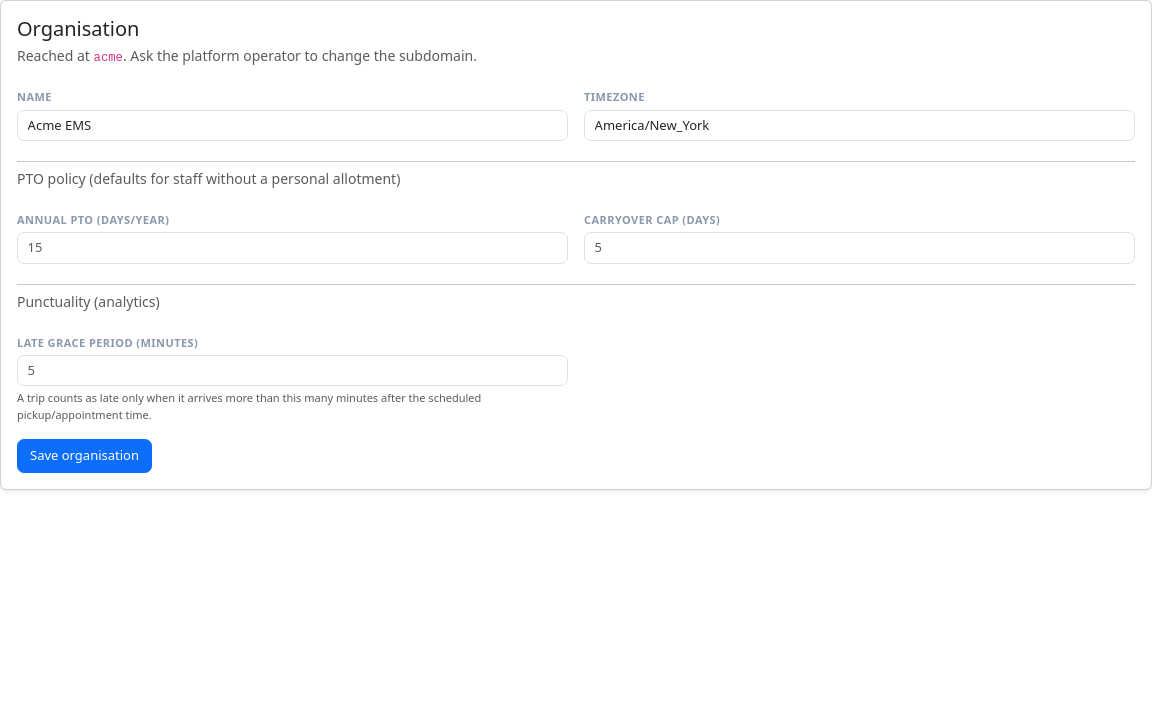
Test: OrgSettings › saves name and timezone
Replace the text in the field labelled "Name" with "Acme Medical". click: (292, 125)
box: 17,110 -> 568,141
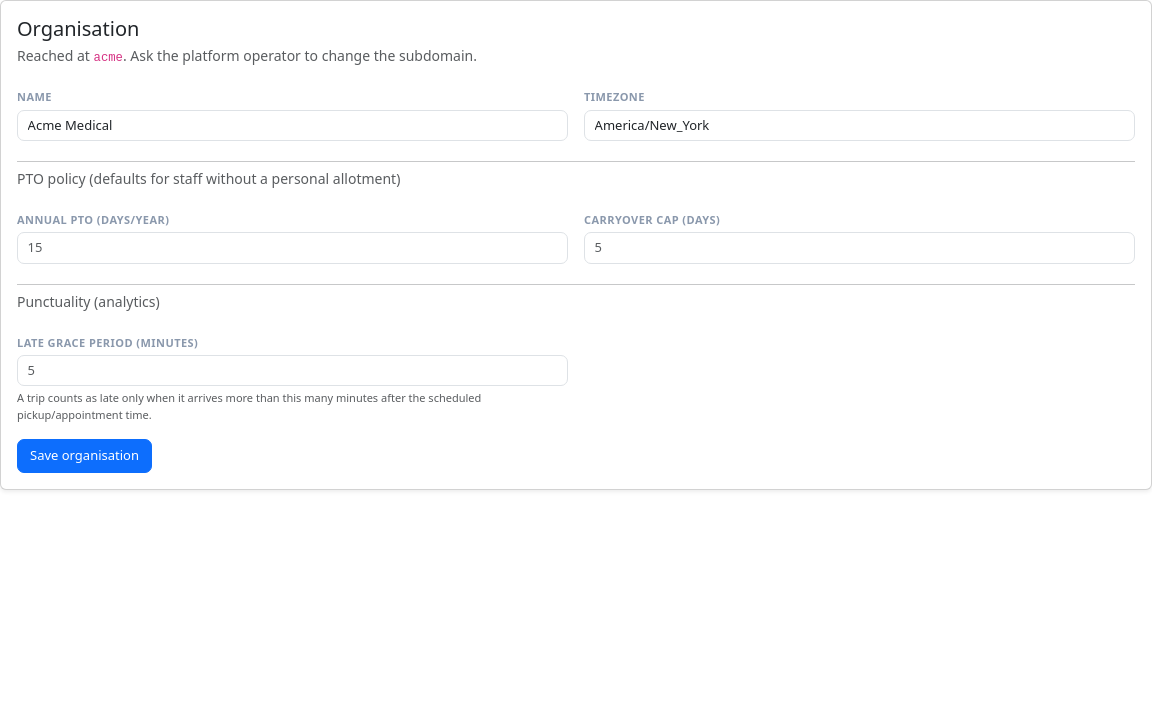
Type "America/Chicago" into the field labelled "Timezone". click: (860, 125)
box: 584,110 -> 1135,141
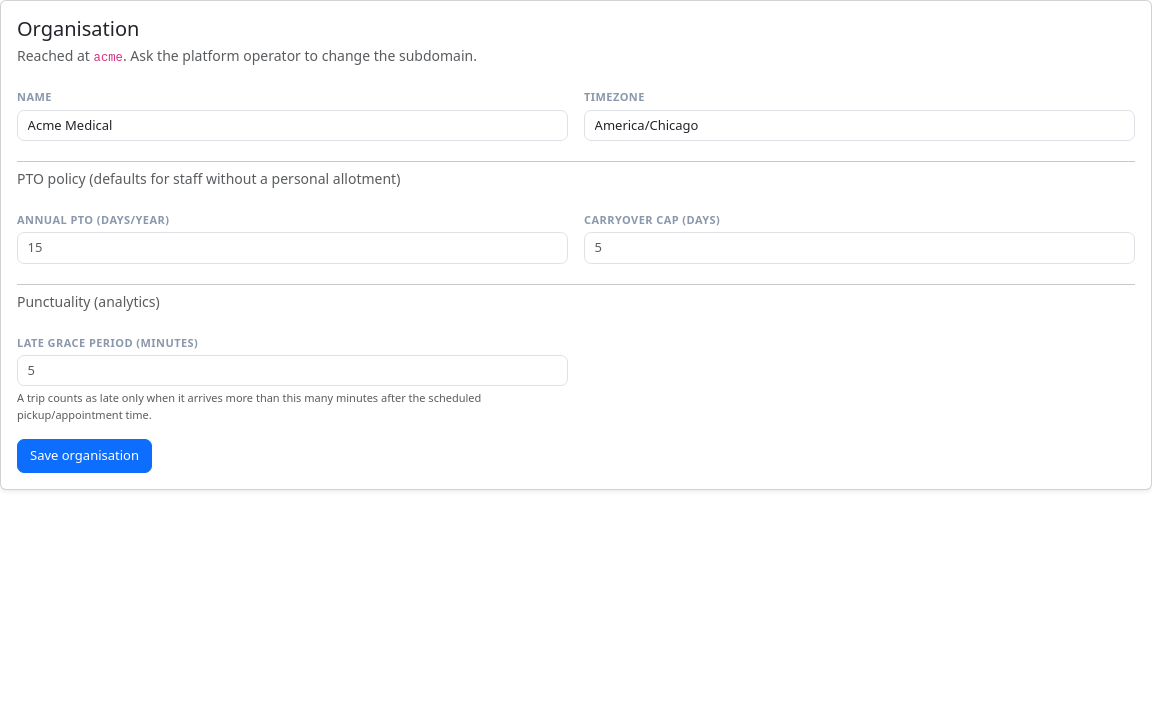
Click the button "Save organisation". click: (84, 456)
box: 17,439 -> 152,473
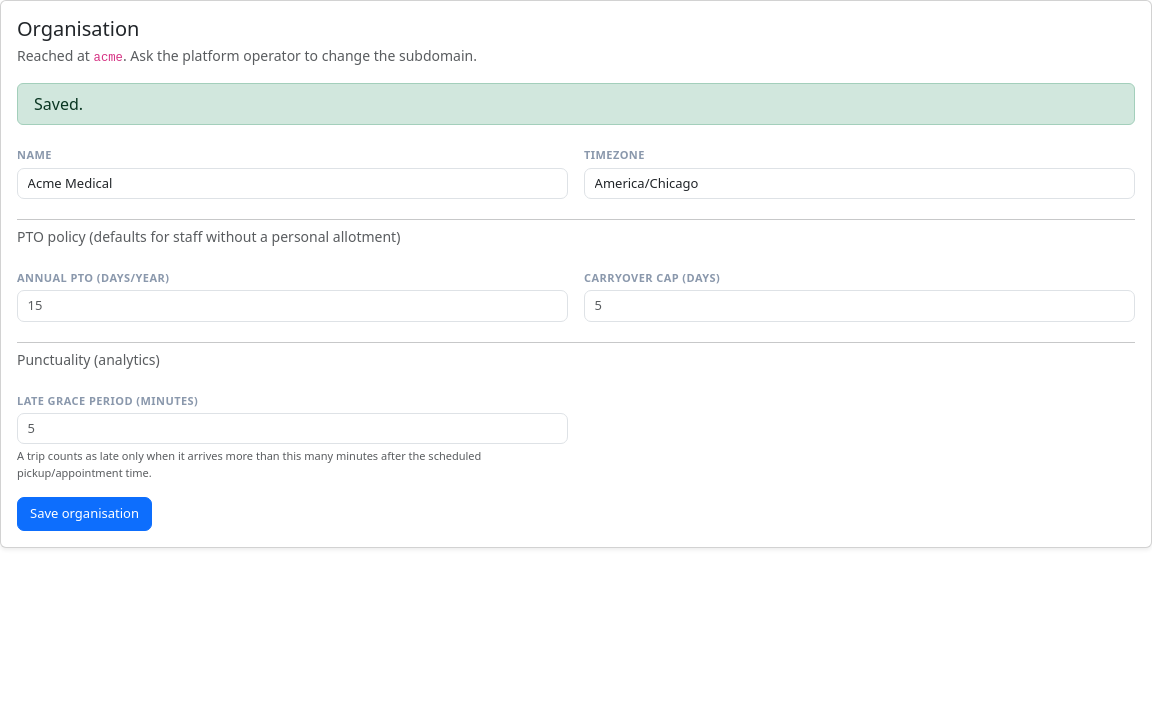
Expected: the text "Saved." is shown, 17,83 -> 1135,125
